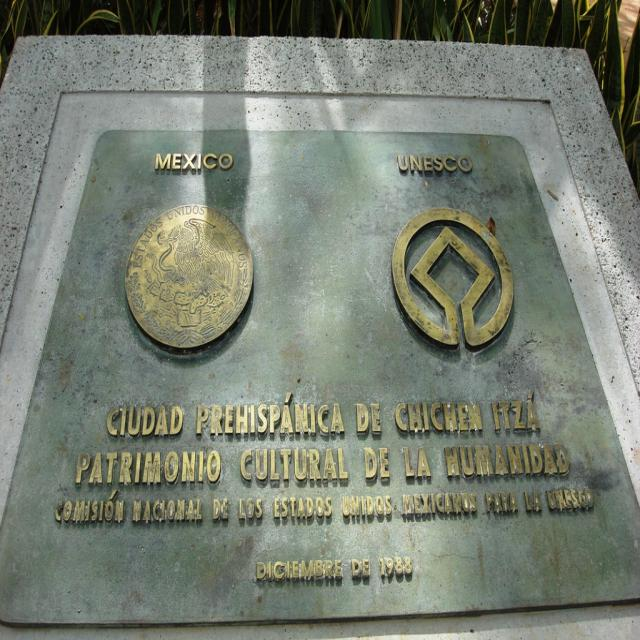Coin: (124, 193, 251, 351)
